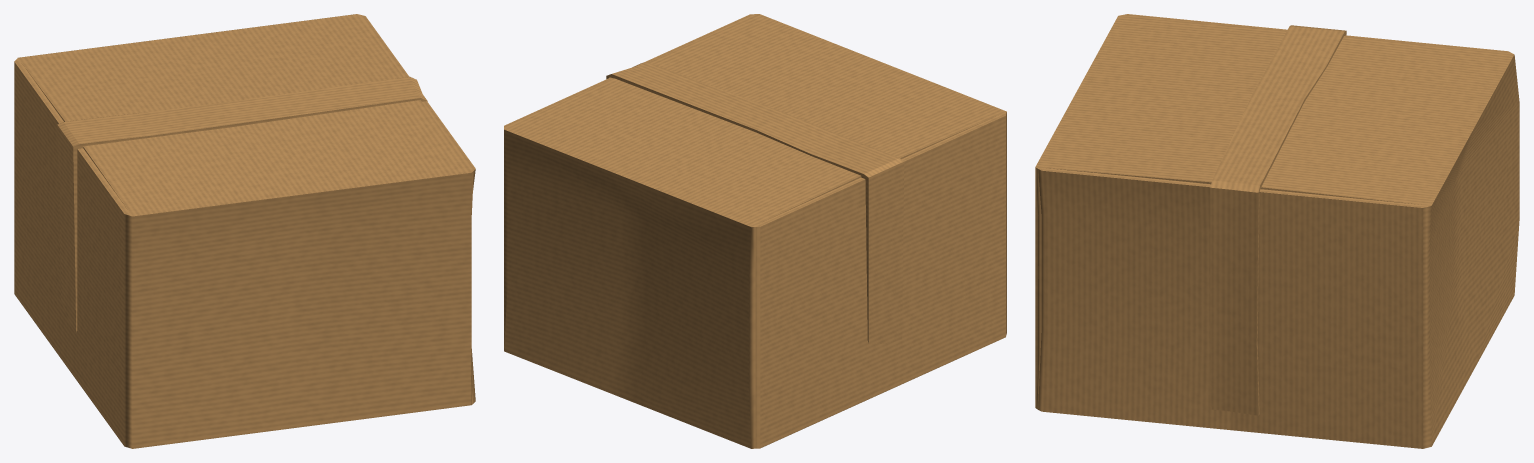
Rendered from box_closed.fbx.
The picture shows the model from 3 angles, left to right: view 1: azimuth 30°, elevation 25°; view 2: azimuth 150°, elevation 25°; view 3: azimuth 270°, elevation 25°; orthographic projection. The views are drawn at different scales.
Parts seen in each view (by area): view 1: box_closed.001; view 2: box_closed.001; view 3: box_closed.001.
Part boxes in pixels (left/top/right/bottom): box_closed.001: left=14, top=14, right=475, bottom=448; box_closed.001: left=504, top=14, right=1006, bottom=448; box_closed.001: left=1035, top=14, right=1519, bottom=448.
Size of the model in its own units: 260 by 154 by 274.
1 material, 1 textured.
